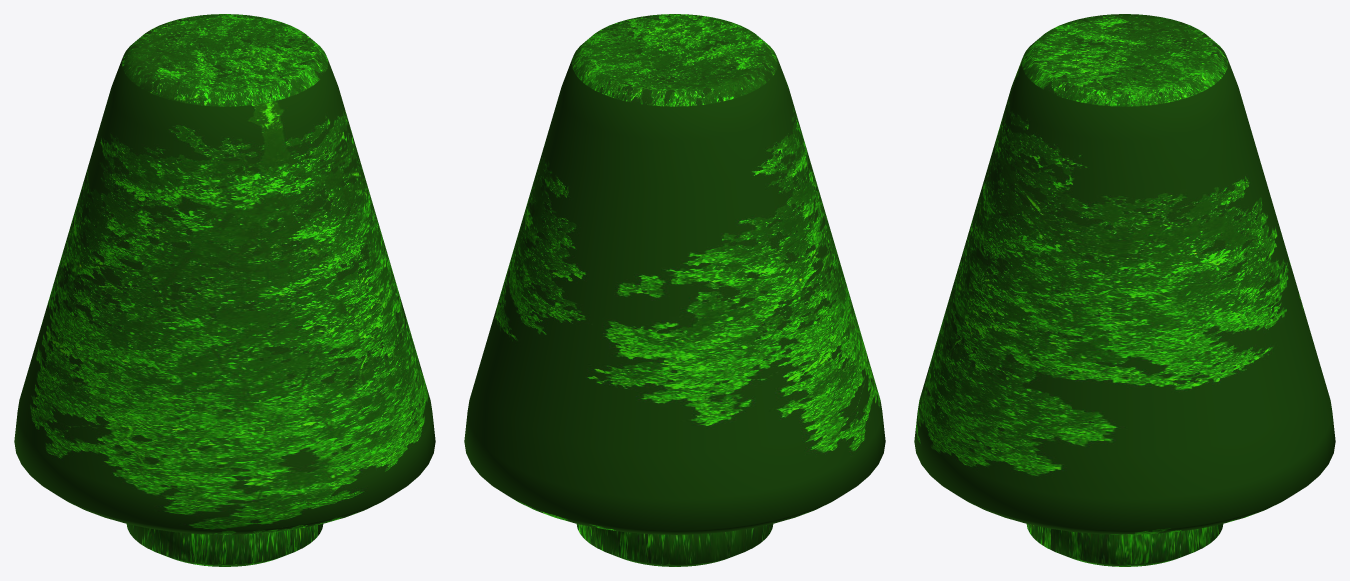
File: cây-3.obj
3 renders of one model, left to right at view 1: azimuth 30°, elevation 25°; view 2: azimuth 150°, elevation 25°; view 3: azimuth 270°, elevation 25°, orthographic.
Parts seen in each view (by area): view 1: Cone004; view 2: Cone004; view 3: Cone004.
Part boxes in pixels (x1,y1,x2,y2): Cone004: (14, 14, 435, 566); Cone004: (464, 14, 885, 566); Cone004: (914, 14, 1335, 566).
Bounding box in the file's own units: 2.79 × 3.51 × 2.79.
